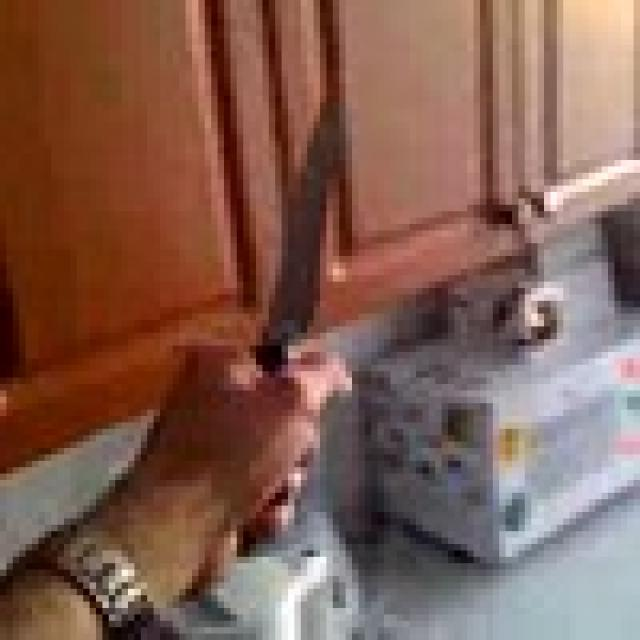Knife: (250, 96, 352, 371)
